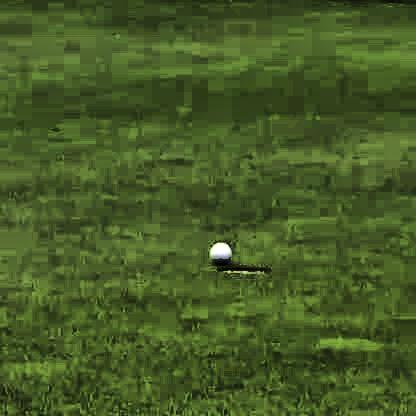golfball: (204, 237, 231, 265)
